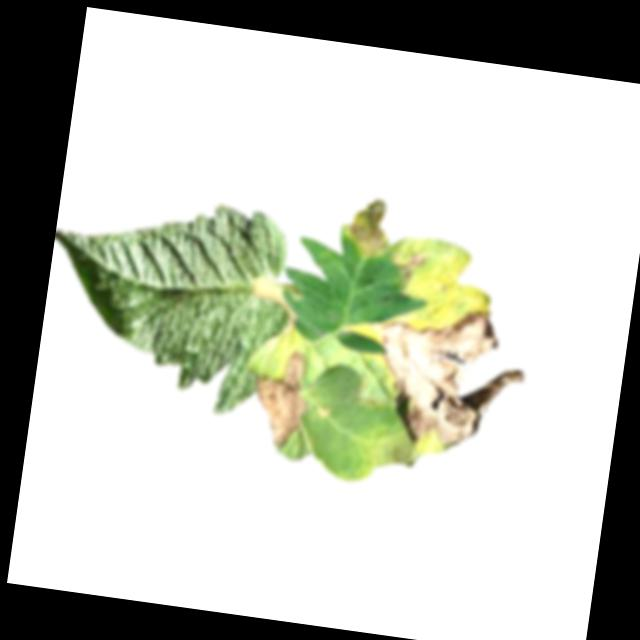Late_blight: (359, 296, 533, 457), (248, 343, 315, 451), (337, 195, 396, 263), (375, 426, 419, 471), (392, 248, 428, 294), (281, 281, 303, 301)
